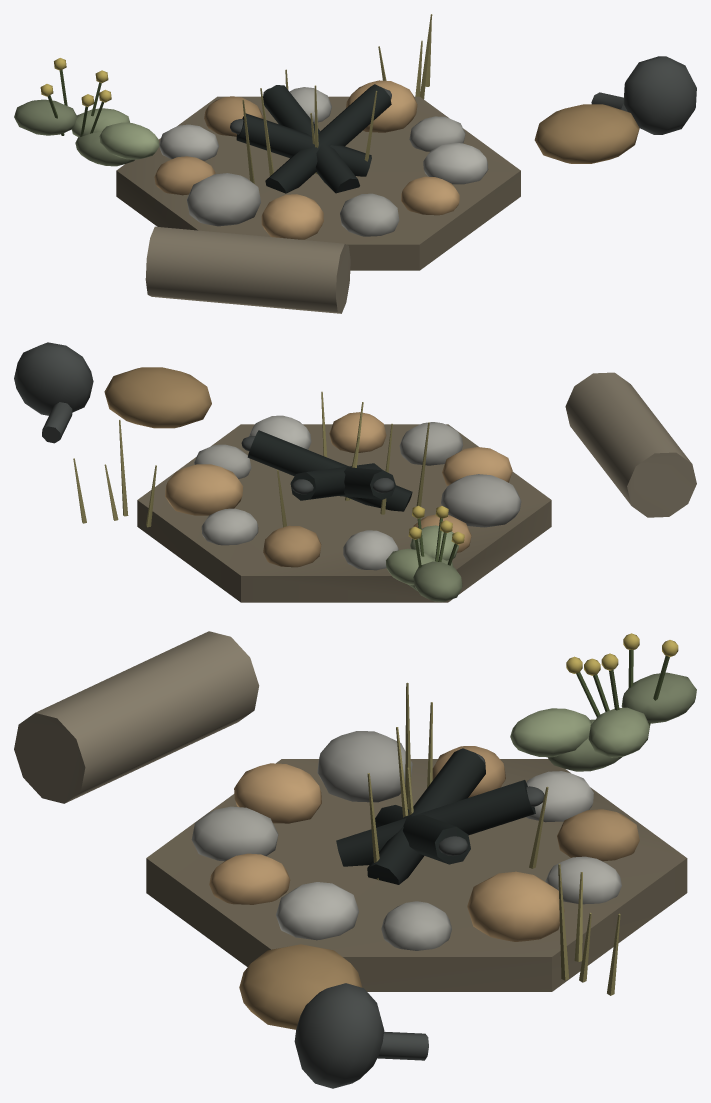
The model's file is cold_campfire_c.glb.
3 views of the same model, one above another, from view 1: azimuth 30°, elevation 25°; view 2: azimuth 150°, elevation 25°; view 3: azimuth 270°, elevation 25° (orthographic). The views are drawn at different scales.
Visible parts, largest first — view 1: Surface; view 2: Surface; view 3: Surface.
Boxes of the visible parts, x1,y1,x2,y2 form: Surface: (14,14,696,313); Surface: (14,342,696,602); Surface: (14,631,696,1088).
Bounding box in the file's own units: 7.26 × 1.36 × 5.3.
